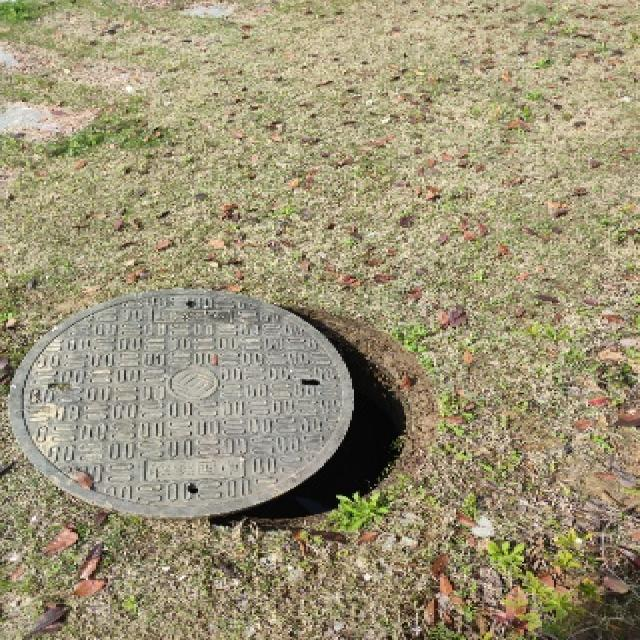Lose: (8, 264, 459, 555)
